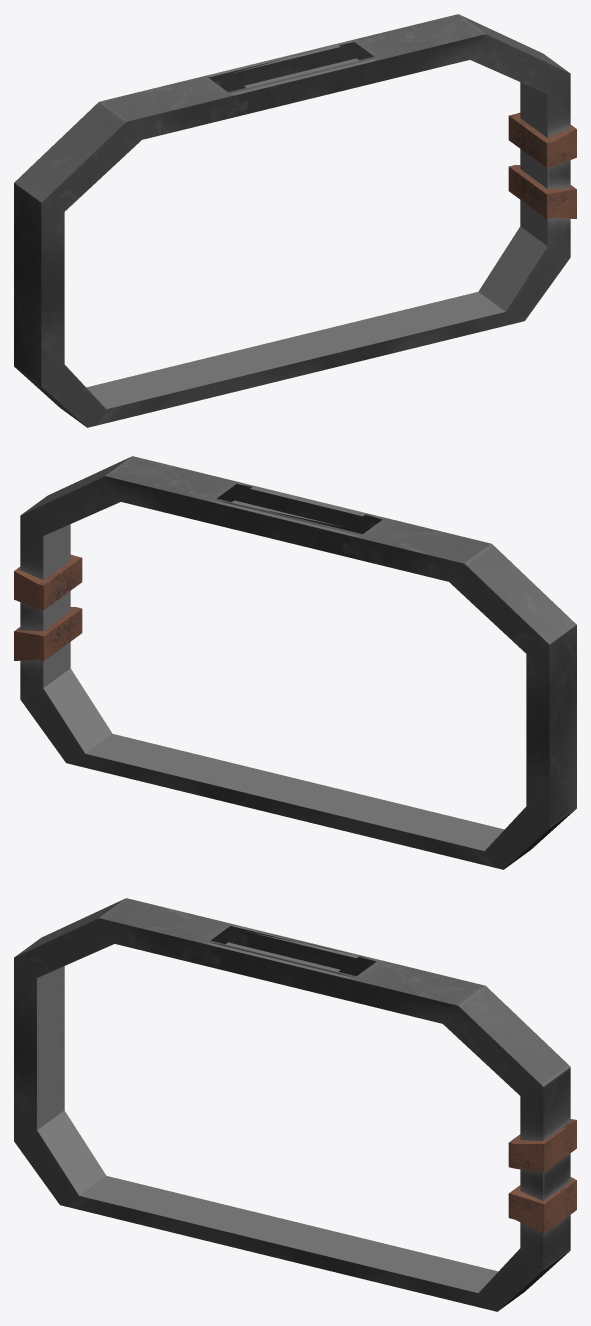
The picture shows the model from 3 angles, top to bottom: view 1: azimuth 30°, elevation 25°; view 2: azimuth 150°, elevation 25°; view 3: azimuth 330°, elevation 25°; orthographic projection.
Parts seen in each view (by area): view 1: pCube8; view 2: pCube8; view 3: pCube8.
Boxes of the visible parts, x1,y1,x2,y2 form: pCube8: (14,14,576,427); pCube8: (14,456,576,869); pCube8: (14,898,576,1311).
Size of the model in its own units: 5.85 by 3.12 by 0.7265.
1 material, 1 textured.
